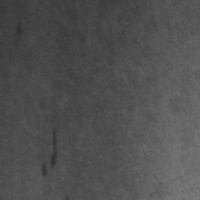inclusion: (37, 125, 62, 181), (12, 17, 27, 40)
